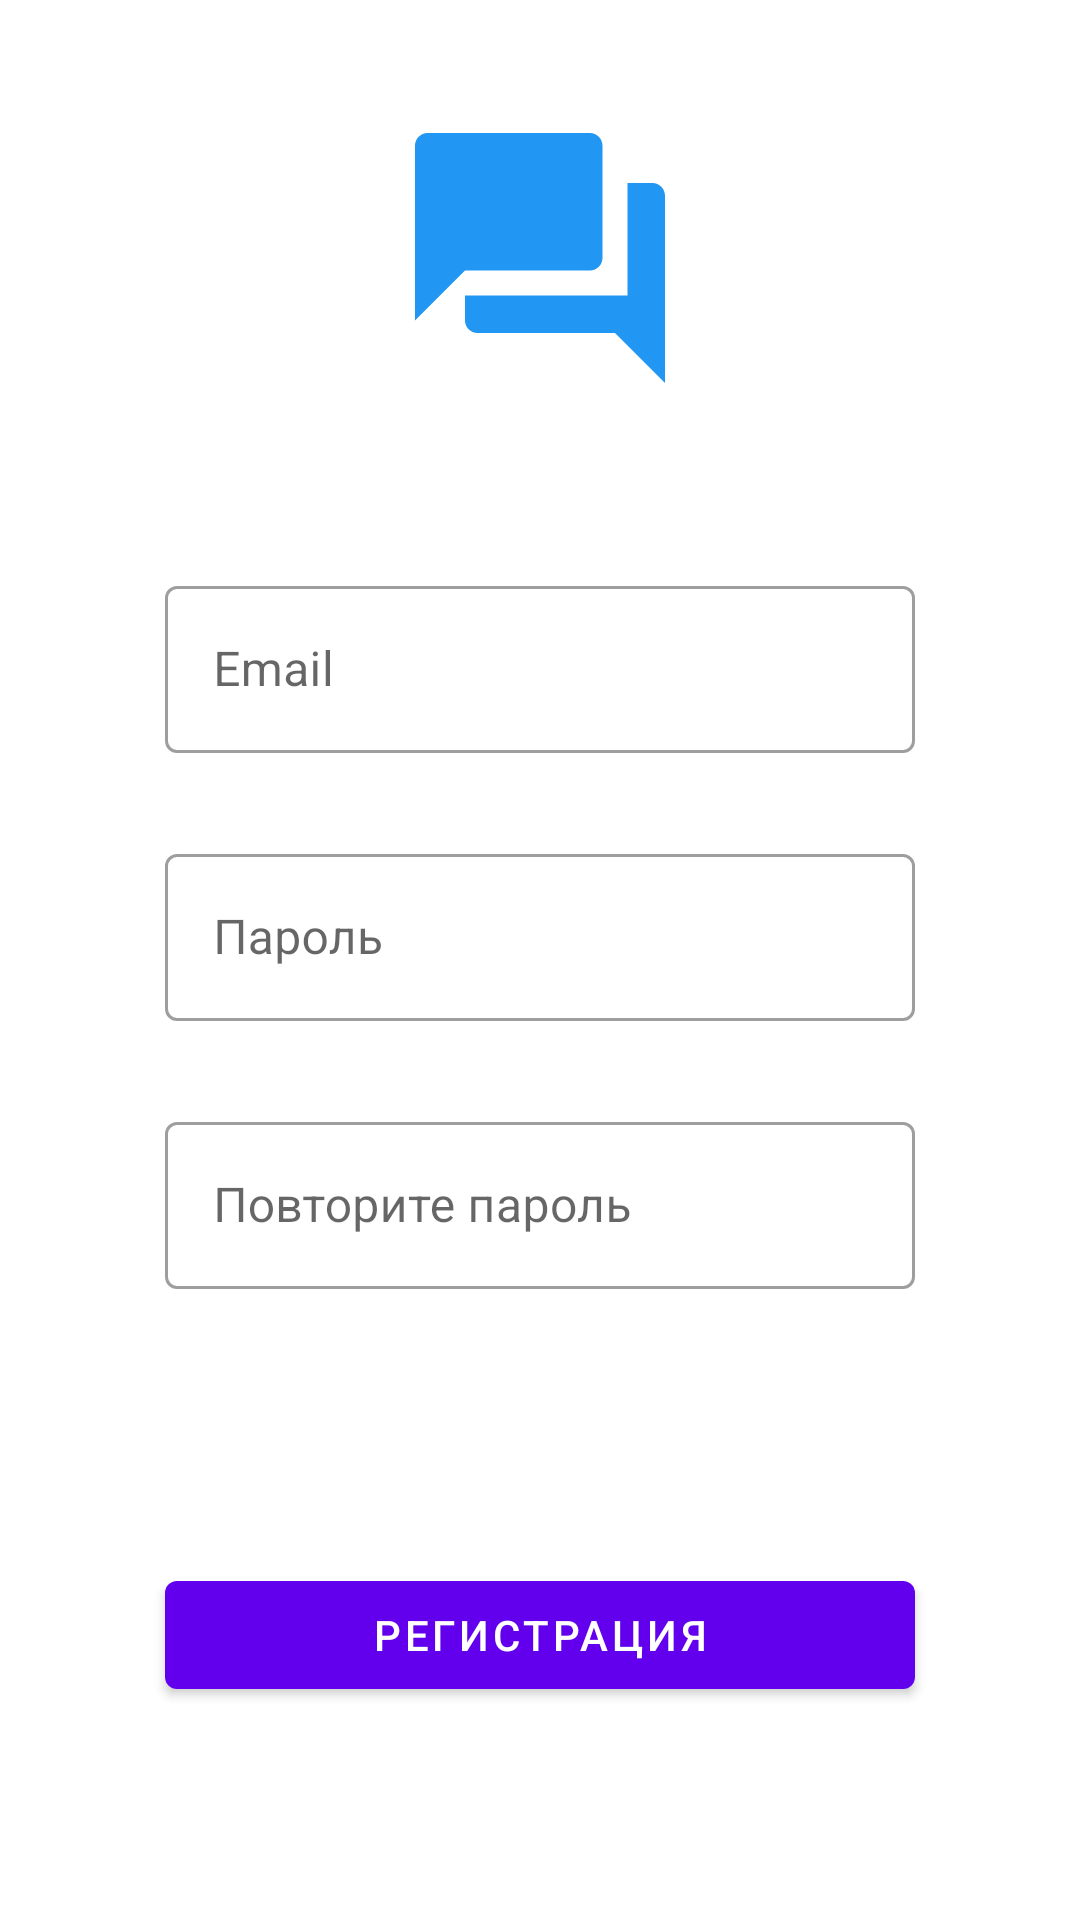

Icons on this 1080 x 1920 Android screen, each with its box as [x1=x1, y1=y1, x2=x2, y2=y2]:
question answer: [x1=415, y1=133, x2=665, y2=383]
